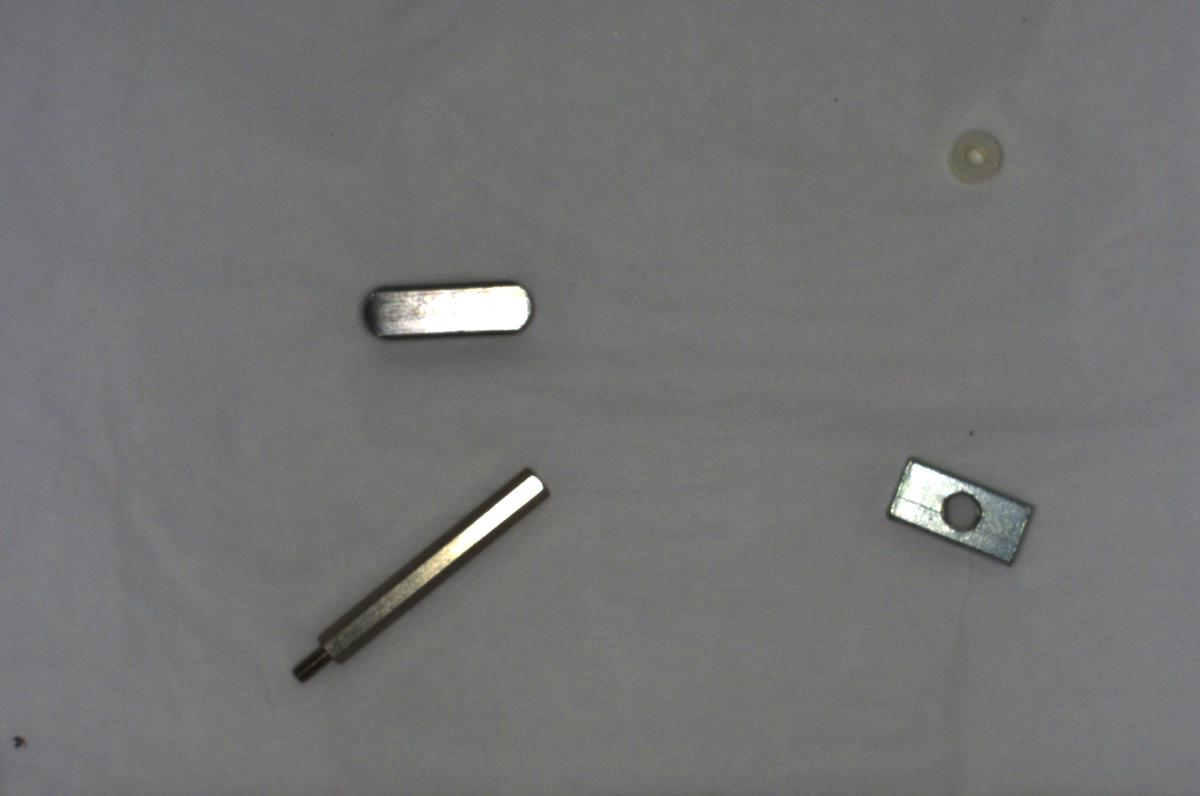Hexagonal steel column: (287, 463, 558, 681)
Keybar: (352, 266, 538, 349)
Plastic cushion pillar: (944, 130, 1007, 179)
Rectangular nut: (884, 452, 1037, 575)
